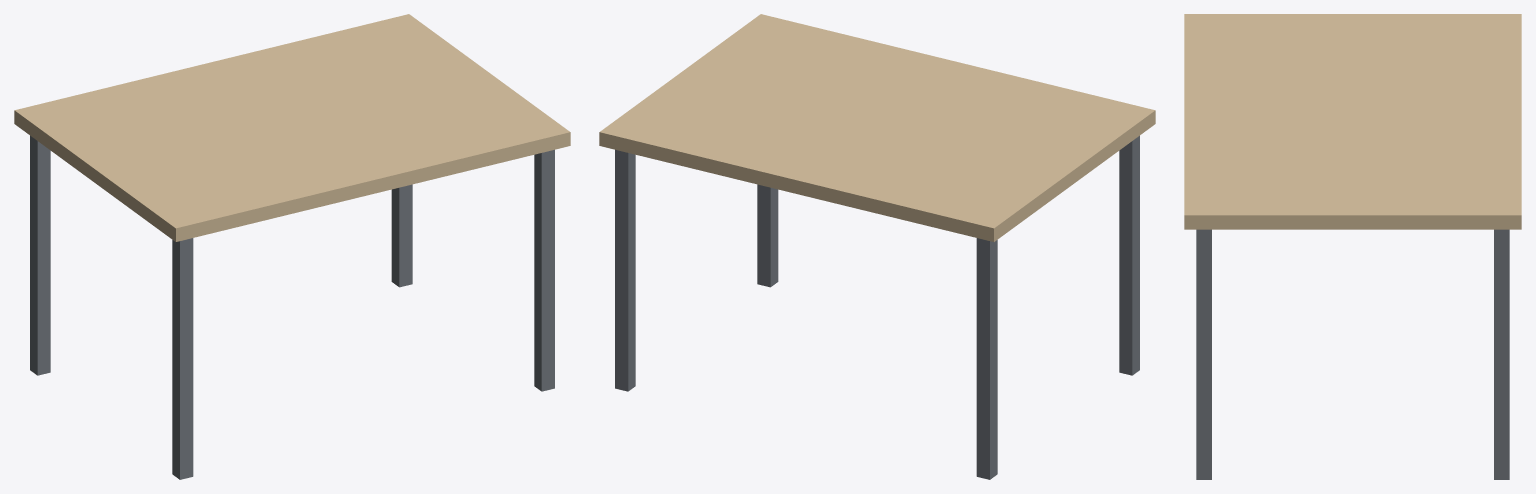
The picture shows the model from 3 angles, left to right: view 1: azimuth 30°, elevation 25°; view 2: azimuth 150°, elevation 25°; view 3: azimuth 270°, elevation 25°; orthographic projection. The views are drawn at different scales.
Size of the model in its own units: 1.2 by 0.75 by 0.85.
